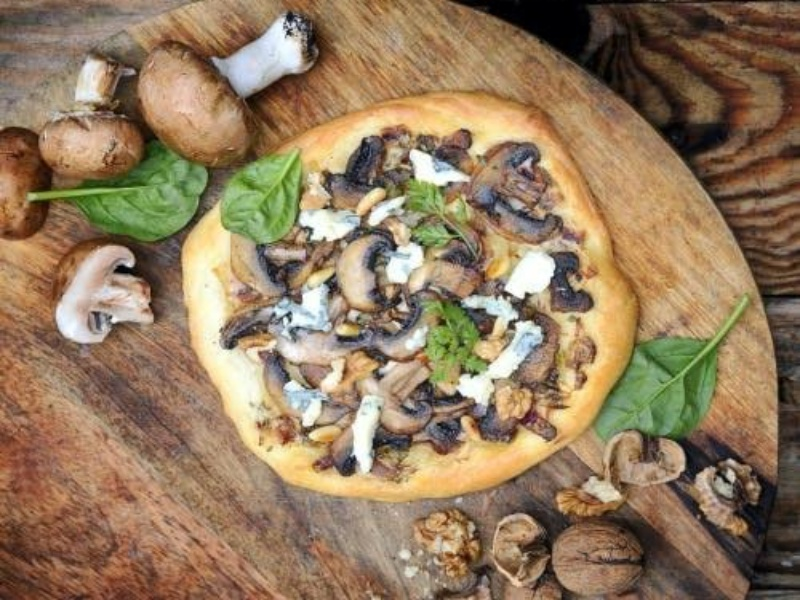champignon: (48, 245, 164, 347), (333, 229, 407, 317)
